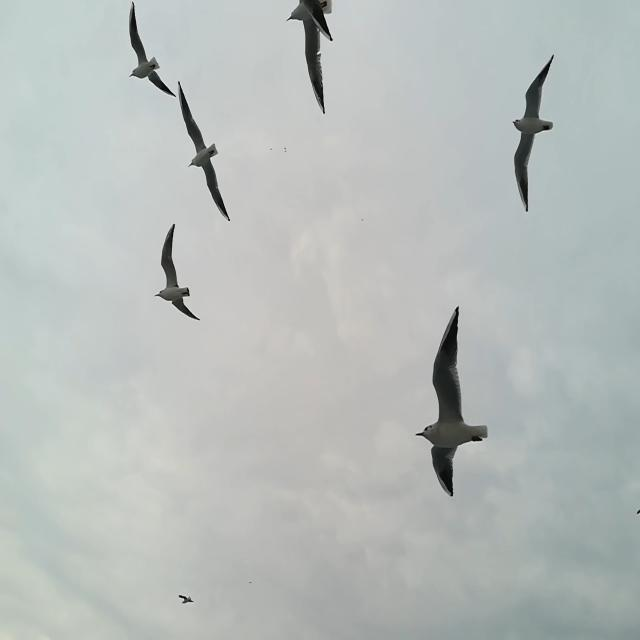bird: (413, 307, 489, 500), (178, 80, 231, 222), (511, 55, 557, 216), (285, 0, 334, 119), (127, 3, 176, 98), (155, 225, 202, 321), (299, 0, 335, 44), (177, 592, 197, 607)
